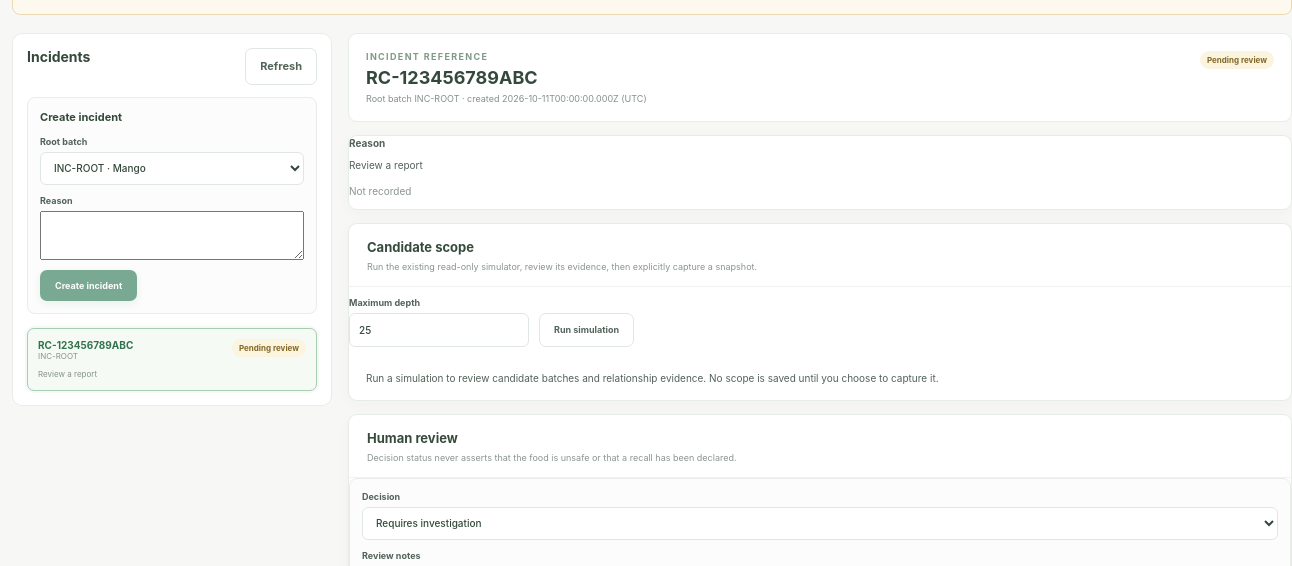
it: RecallIncidentsDashboard › runs the existing simulator, shows evidence, and persists only on explicit capture
Expected: the heading "RC-123456789ABC" is shown, [366,67,538,88]
Click the button "Run simulation".
click(587, 330)  # box [539,313,634,347]
(page scrolled)
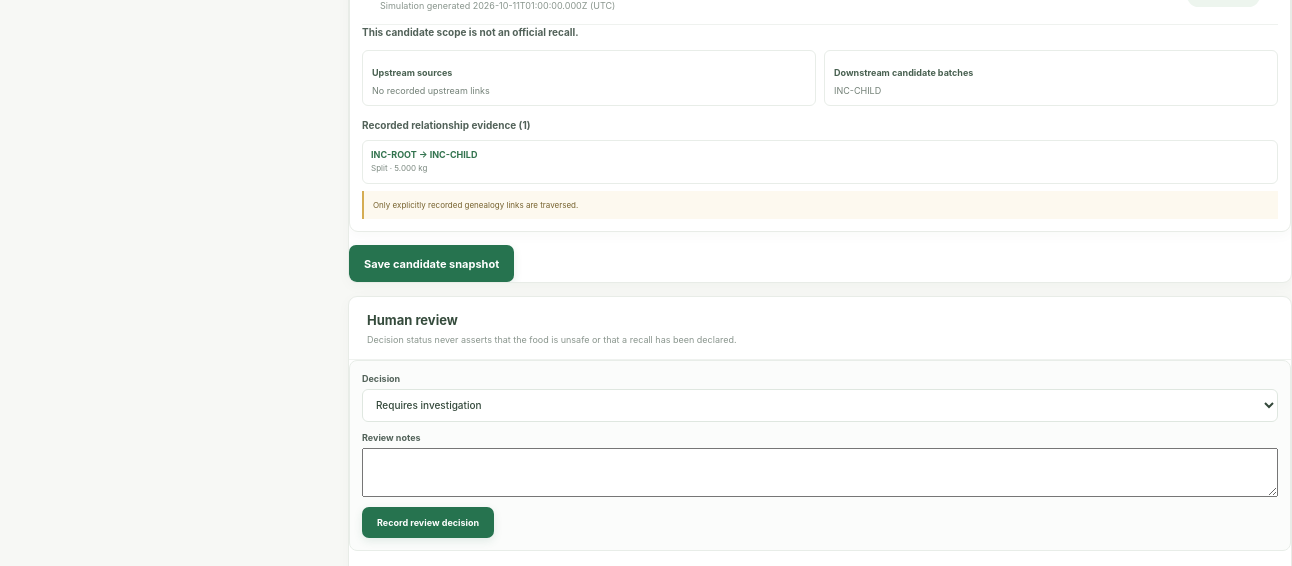
Expected: the text "INC-ROOT → INC-CHILD" is shown, [371,149,477,160]
Expected: the text "This candidate scope is not an official recall." is shown, [362,26,579,38]
Click the button "Save candidate snapshot".
click(432, 264)  # box [349,245,514,282]
(page scrolled)
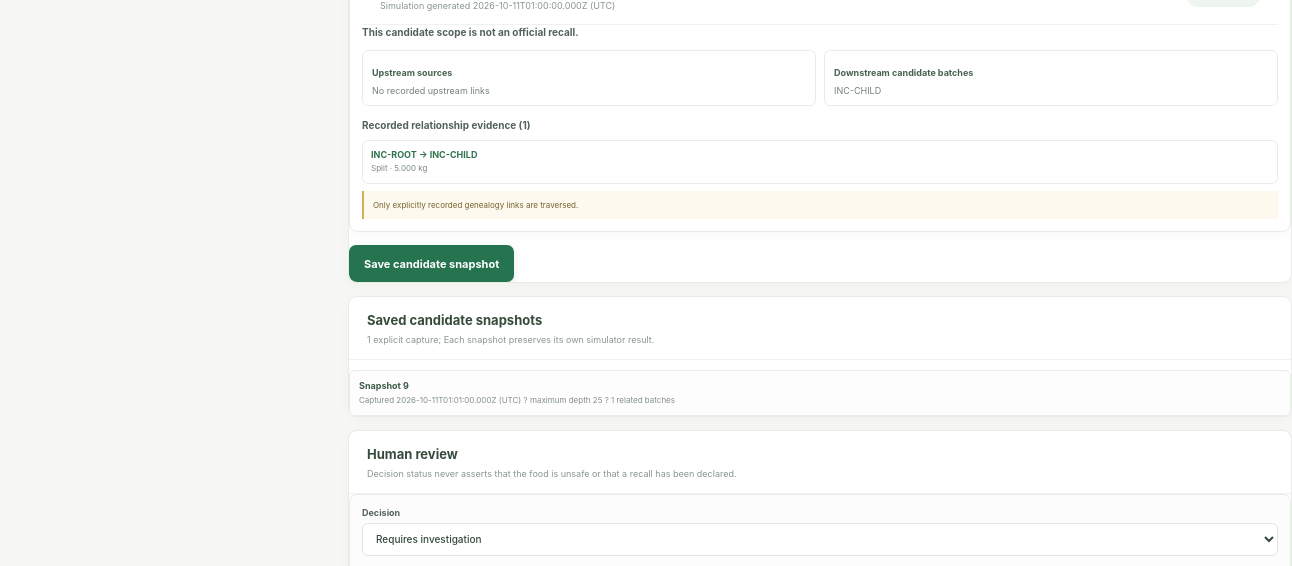
Expected: the text "1 explicit capture" is shown, [367,333,654,347]
